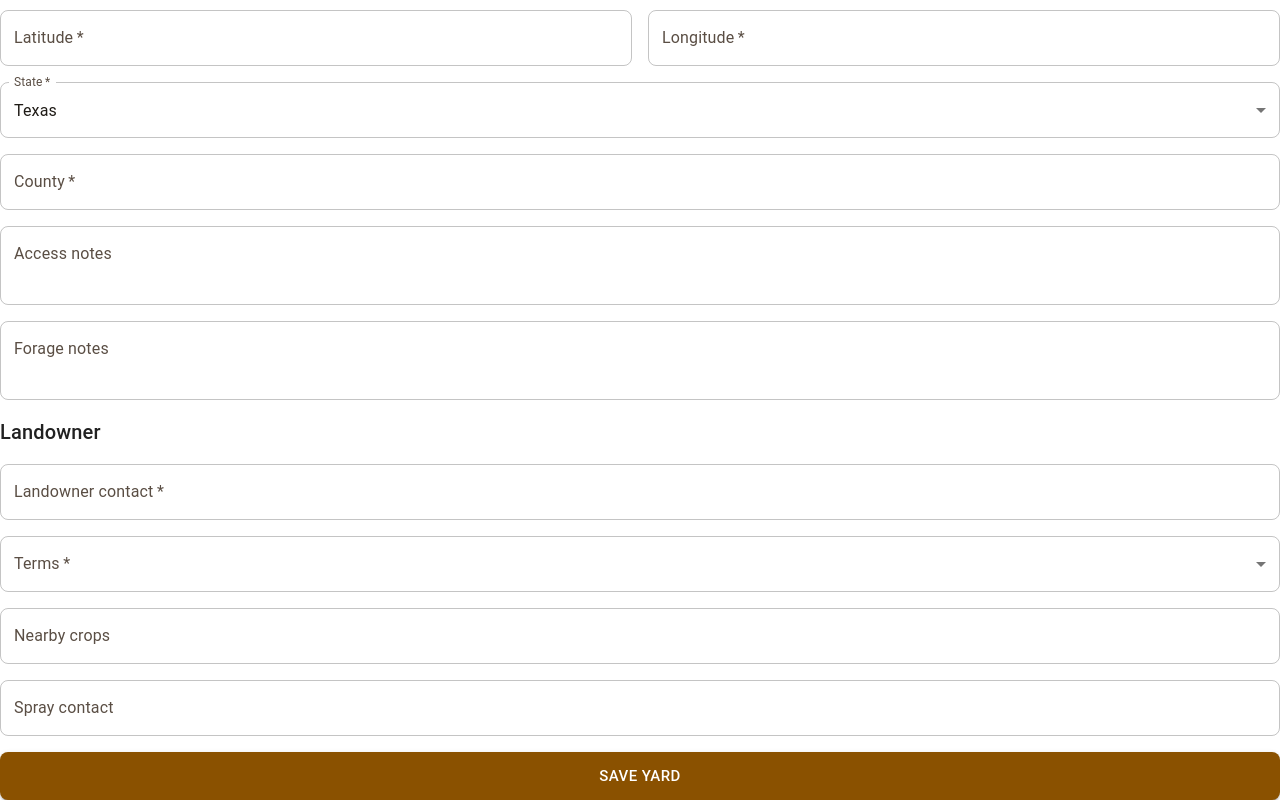
Test: YardForm › should show a rule for a field it has no input for above the form when the server rejects one
The width and height of the screenshot is (1280, 800).
(page scrolled)
Click the button "Save yard" at (640, 776), box [0, 752, 1279, 799]
(page scrolled)
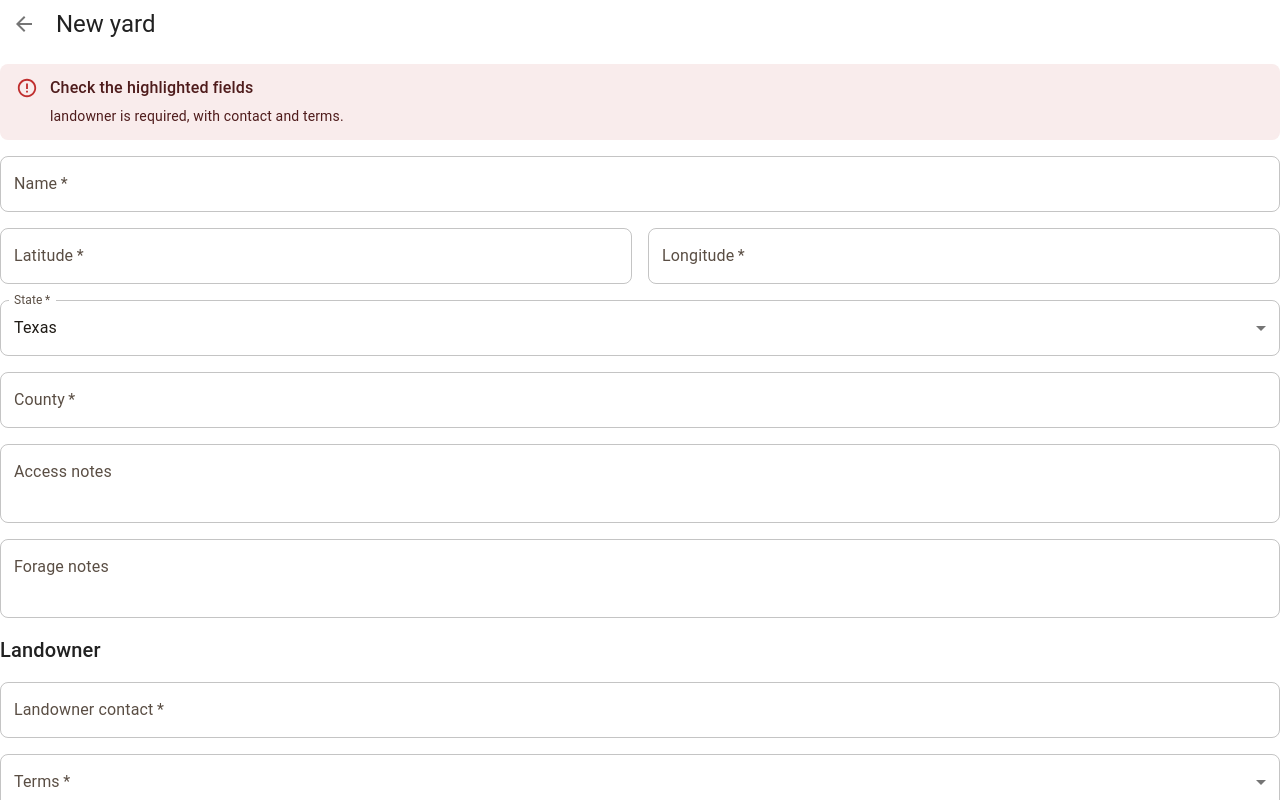
Check: the text "landowner is required, with contact and terms." is shown, box [50, 106, 344, 126]
